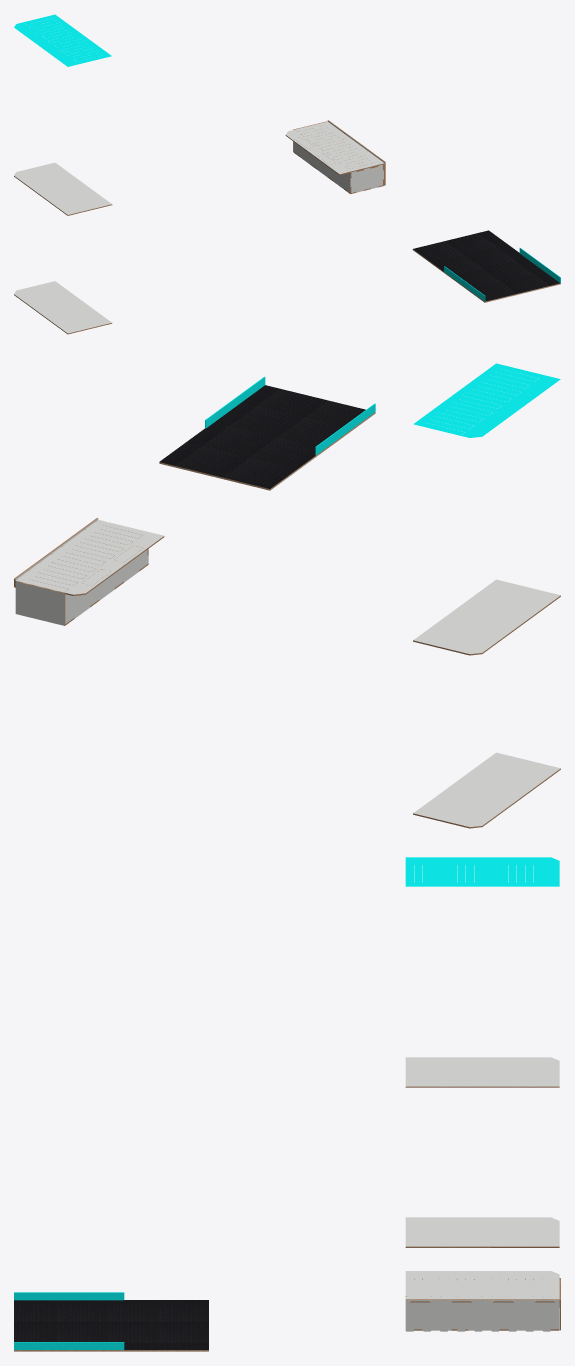
File: Bed.glb
The picture shows the model from 3 angles, top to bottom: view 1: azimuth 30°, elevation 25°; view 2: azimuth 150°, elevation 25°; view 3: azimuth 270°, elevation 25°; orthographic projection. The views are drawn at different scales.
Parts seen in each view (by area): view 1: Base, object 3, object 5, object 7, Fixed Bed, Open_Bed, object 4, object 6, End_RH, Back, Layout; view 2: Base, object 3, object 5, object 7, Fixed Bed, Open_Bed, object 4, object 6, DF_1, End_RH, Layout; view 3: Base, Fixed Bed (×2), object 3, object 5, object 7, object 4, Open_Bed, object 6, End_LH, Layout.
Part boxes in pixels (box(x1,y1,x2,y2)): Base: box(412, 230, 560, 302); object 3: box(14, 281, 112, 334); object 5: box(14, 166, 106, 215); object 7: box(14, 18, 106, 66); Fixed Bed: box(285, 125, 377, 174); Open_Bed: box(295, 121, 384, 168); object 4: box(23, 162, 112, 209); object 6: box(23, 14, 111, 61); End_RH: box(293, 142, 351, 193); Back: box(350, 164, 383, 192); Layout: box(444, 248, 560, 301); Base: box(159, 385, 375, 490); object 3: box(413, 752, 560, 828); object 5: box(426, 581, 560, 655); object 7: box(426, 365, 560, 437); Fixed Bed: box(29, 522, 164, 595); Open_Bed: box(15, 520, 141, 592); object 4: box(413, 579, 538, 653); object 6: box(413, 363, 538, 435); DF_1: box(15, 581, 65, 625); End_RH: box(65, 549, 148, 623); Layout: box(205, 376, 375, 455); Base: box(14, 1300, 208, 1351); Fixed Bed (×2): box(405, 1271, 559, 1331); object 3: box(405, 1217, 559, 1247); object 5: box(405, 1057, 559, 1082); object 7: box(405, 857, 559, 882); object 4: box(405, 1065, 559, 1087); Open_Bed: box(405, 1278, 559, 1302); object 6: box(405, 865, 559, 886); End_LH: box(414, 1308, 559, 1330); Layout: box(14, 1292, 124, 1349).
Bounding box in the file's own units: 6.41 × 4.7 × 6.45.
Materials: 8 (5 with a texture image).
